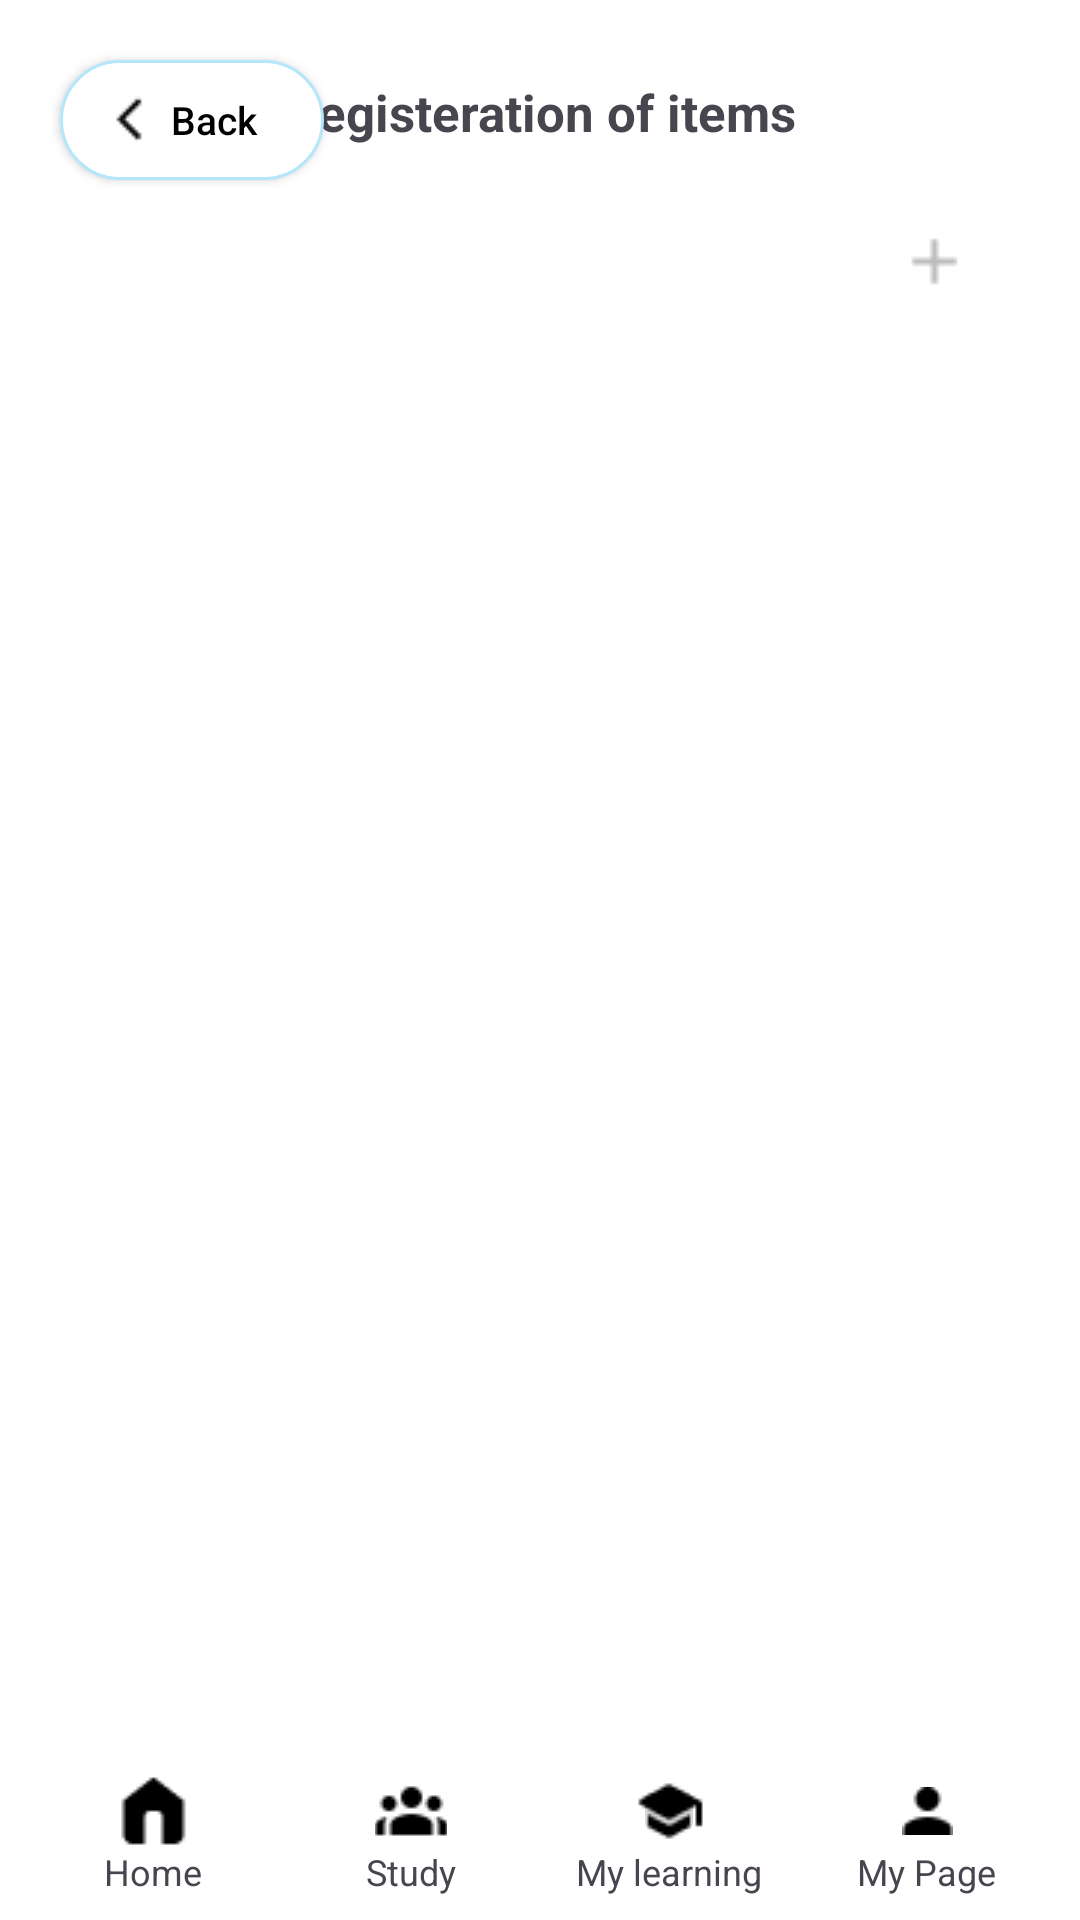

Icons on this 1080px x 1920px Android screen, each with its box as (x1, y1, x2, y2):
plus: (912, 239, 957, 284)
